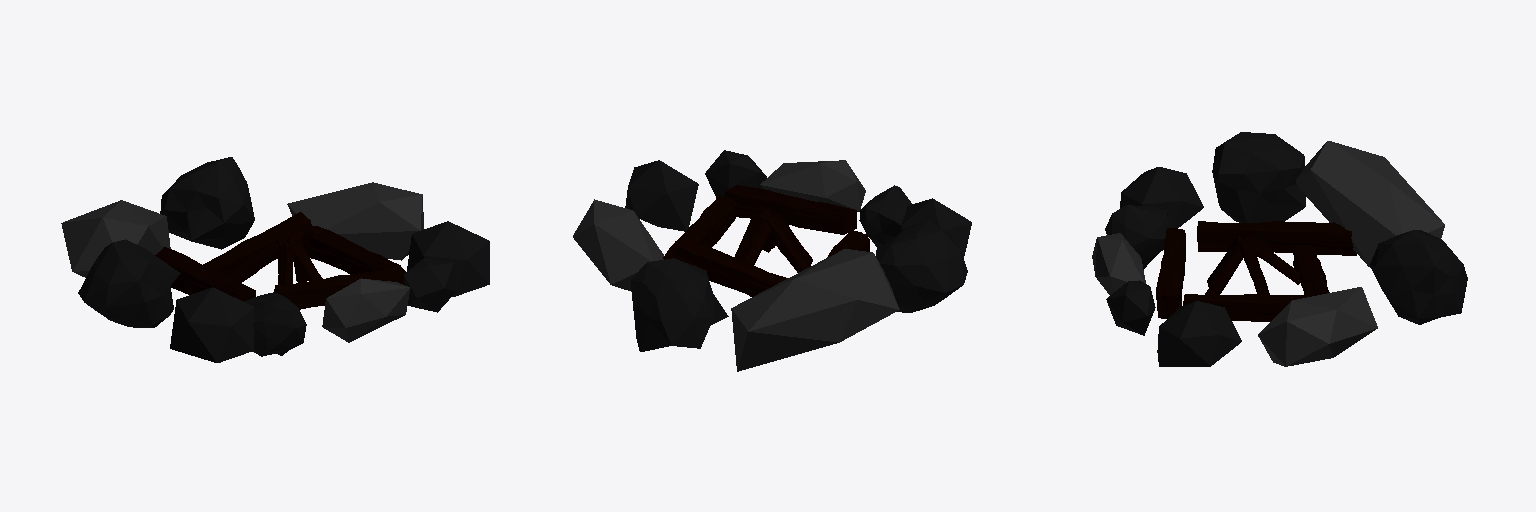
The model's file is Campfire.obj.
3 views of the same model, side by side, from view 1: azimuth 30°, elevation 25°; view 2: azimuth 150°, elevation 25°; view 3: azimuth 270°, elevation 25° (orthographic).
Parts seen in each view (by area): view 1: RockCircle_Icosphere.019, Plank.002_Cube.003, Plank.001_Cube.002, Plank.003_Cube.004, Plank.004_Cube.005, Plank.005_Cube.006, Plank.007_Cube.008, Plank.008_Cube.009; view 2: RockCircle_Icosphere.019, Plank.003_Cube.004, Plank.004_Cube.005, Plank.002_Cube.003, Plank.005_Cube.006, Plank.006_Cube.007, Plank.001_Cube.002, Plank.009_Cube.010; view 3: RockCircle_Icosphere.019, Plank.001_Cube.002, Plank.003_Cube.004, Plank.002_Cube.003, Plank.004_Cube.005, Plank.006_Cube.007, Plank.008_Cube.009, Plank.009_Cube.010.
Boxes of the visible parts, x1,y1,x2,y2 form: RockCircle_Icosphere.019: [61, 157, 489, 362]; Plank.002_Cube.003: [306, 226, 400, 273]; Plank.001_Cube.002: [155, 247, 255, 301]; Plank.003_Cube.004: [274, 266, 405, 309]; Plank.004_Cube.005: [203, 212, 313, 275]; Plank.005_Cube.006: [228, 238, 285, 282]; Plank.007_Cube.008: [278, 244, 295, 284]; Plank.008_Cube.009: [286, 234, 322, 280]; RockCircle_Icosphere.019: [573, 150, 971, 371]; Plank.003_Cube.004: [725, 185, 856, 234]; Plank.004_Cube.005: [673, 240, 787, 296]; Plank.002_Cube.003: [663, 195, 735, 259]; Plank.005_Cube.006: [766, 218, 809, 272]; Plank.006_Cube.007: [734, 206, 766, 261]; Plank.001_Cube.002: [827, 230, 869, 257]; Plank.009_Cube.010: [744, 215, 775, 264]; RockCircle_Icosphere.019: [1092, 132, 1467, 366]; Plank.001_Cube.002: [1197, 221, 1356, 255]; Plank.003_Cube.004: [1156, 228, 1185, 318]; Plank.002_Cube.003: [1183, 294, 1307, 321]; Plank.004_Cube.005: [1293, 245, 1329, 296]; Plank.006_Cube.007: [1239, 236, 1269, 293]; Plank.008_Cube.009: [1205, 237, 1245, 294]; Plank.009_Cube.010: [1251, 236, 1300, 284].
Size of the model in its own units: 4.09 by 1.12 by 3.62.